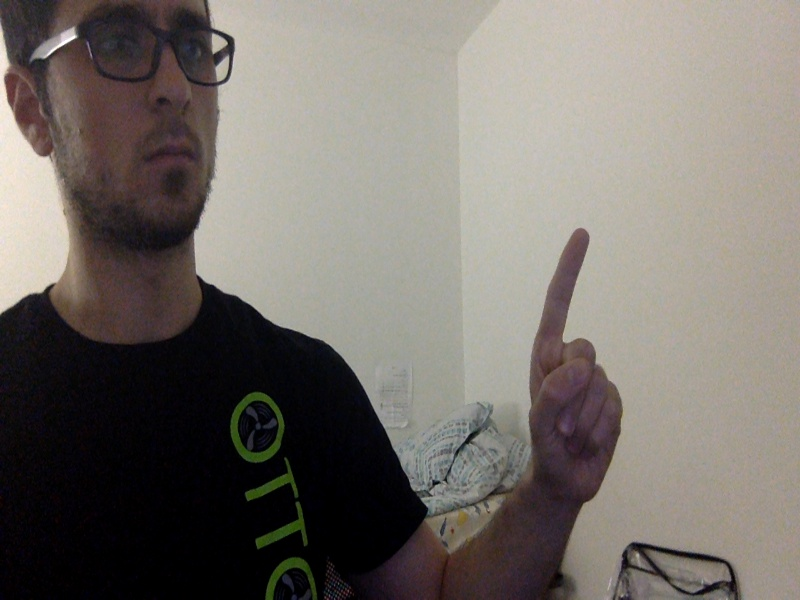1-hand: (532, 229, 625, 515)
